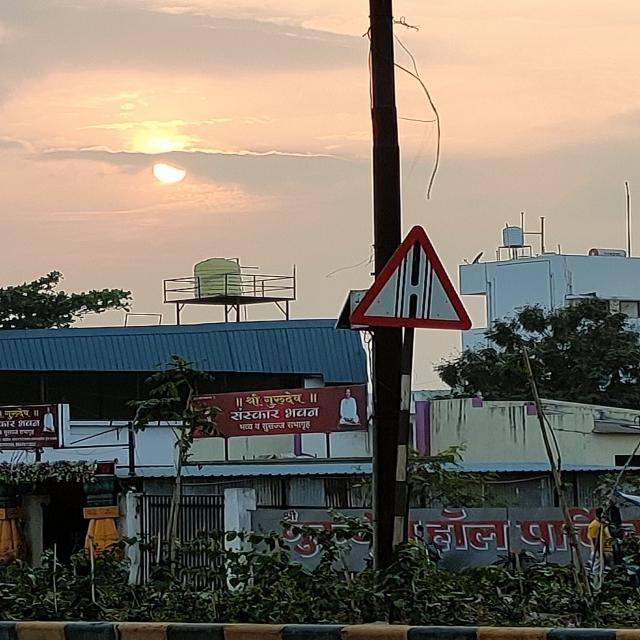ferry: (349, 222, 470, 330)
